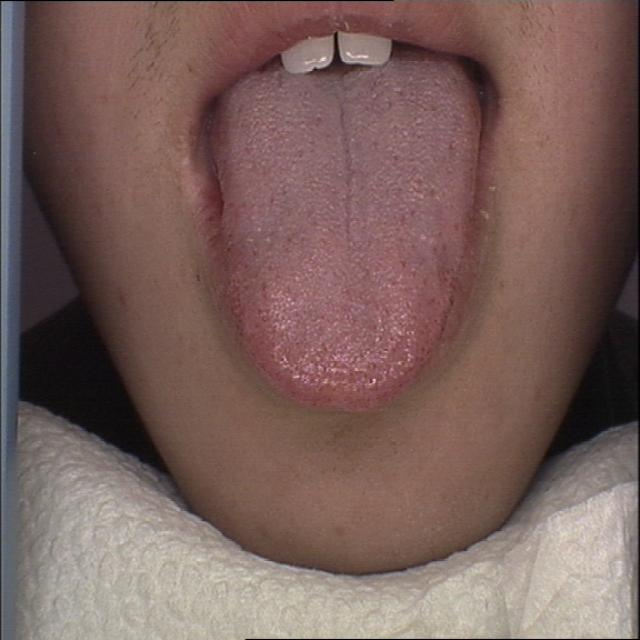tongue: (201, 63, 494, 416)
